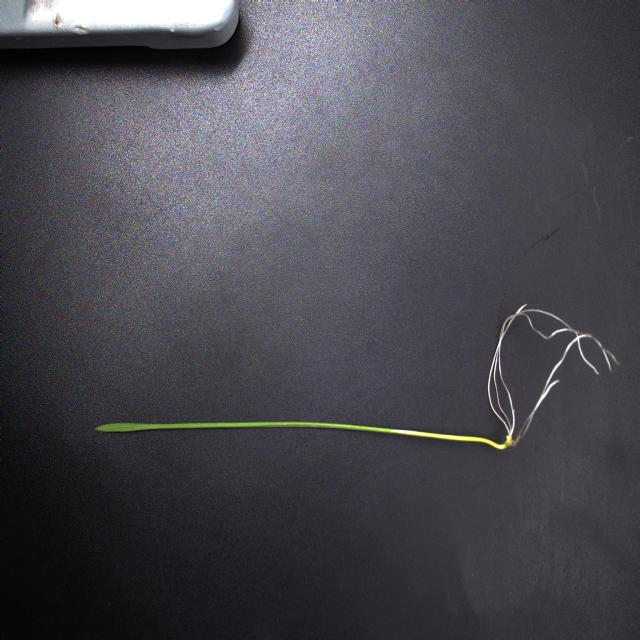leaf: (96, 421, 381, 435)
root: (486, 300, 628, 449)
stem: (380, 428, 507, 450)
